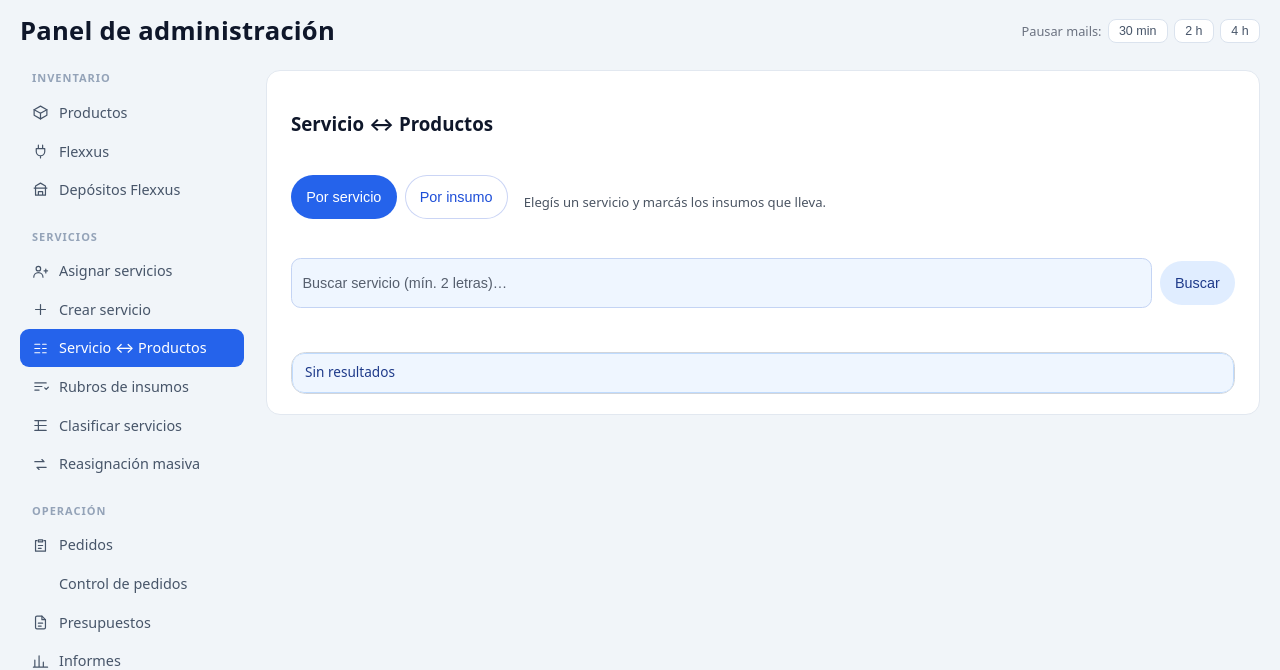
it: Servicio ↔ Productos — por servicio › filtra los insumos por categoría
Type "hospital" into the field labelled "Buscar servicio".
click(721, 284); type("hospital")  # box [291, 258, 1152, 308]
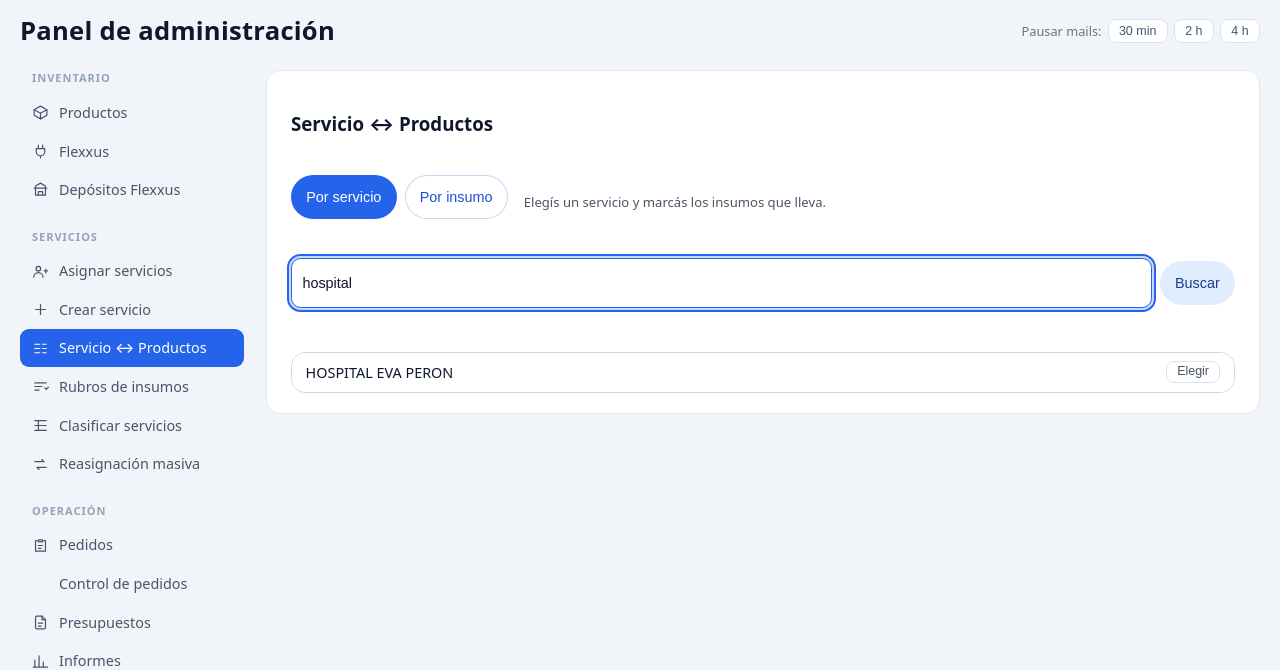
Click the button "Elegir".
click(1193, 372)  # box [1166, 362, 1220, 383]
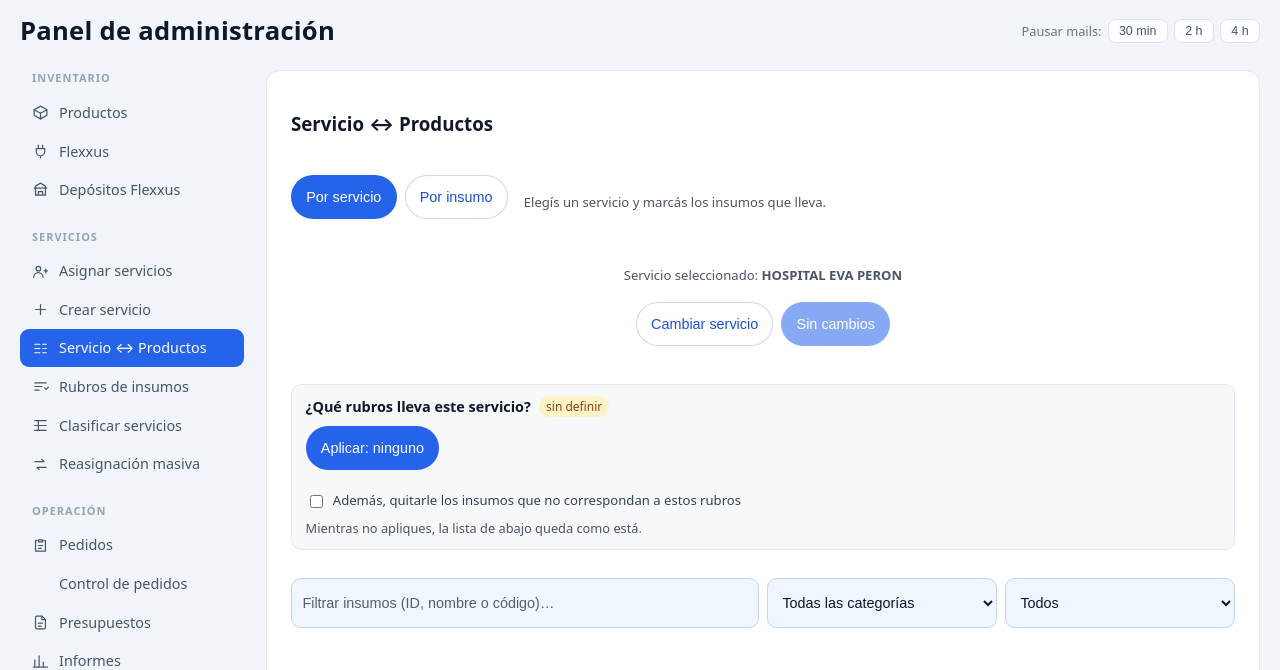
Check: the field labelled "Filtrar insumos" is shown, box [291, 578, 759, 628]
Select "Limpieza" in the dropdown named "Categoría" at (882, 603), box [767, 578, 997, 628]
(page scrolled)
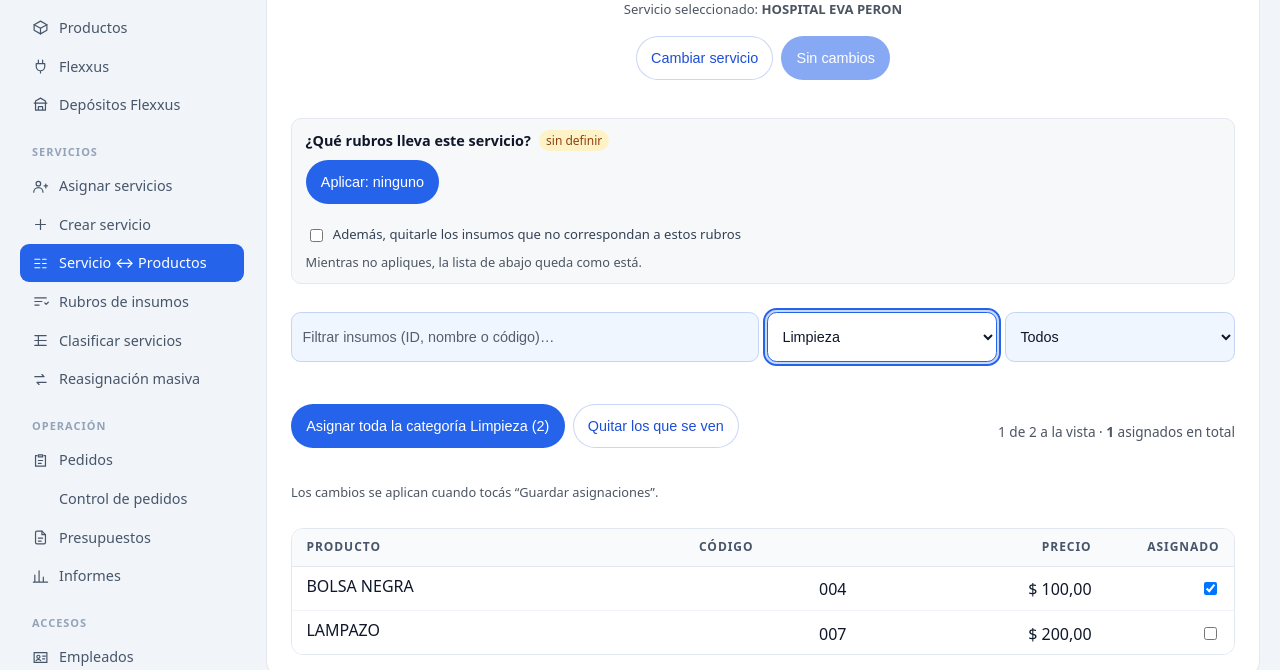
Check: the checkbox named "Asignar BOLSA NEGRA" is shown, box [1204, 582, 1217, 595]
Check: the button "Asignar toda la categoría Limpieza (2)" is shown, box [291, 404, 565, 448]
